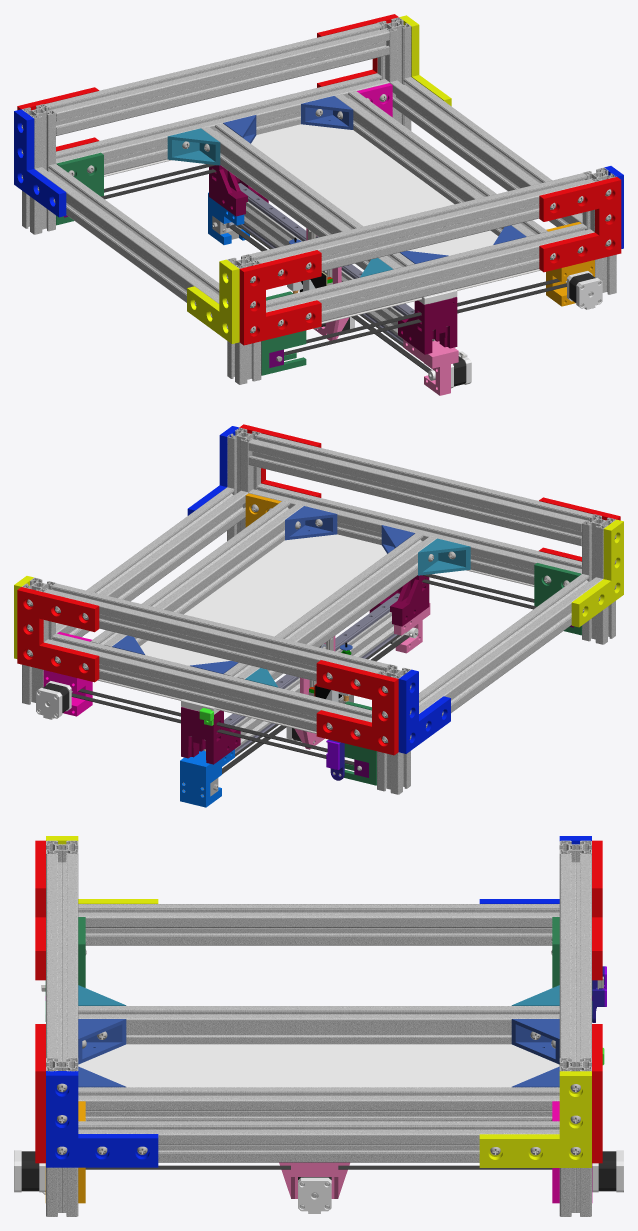
Rendered from smd-machine.glb.
3 renders of one model, top to bottom at view 1: azimuth 30°, elevation 25°; view 2: azimuth 150°, elevation 25°; view 3: azimuth 270°, elevation 25°, orthographic. The views are drawn at different scales.
Visible parts, largest first — view 1: Твердое тело1 (×34), Твердое тело2 (×5); view 2: Твердое тело1 (×33), Твердое тело2 (×5); view 3: Твердое тело1 (×27), Твердое тело2 (×5).
Part boxes in pixels (x1,y1,x2,y2): Твердое тело1 (×34): [14, 14, 621, 395]; Твердое тело2 (×5): [56, 152, 457, 375]; Твердое тело1 (×33): [17, 424, 623, 807]; Твердое тело2 (×5): [181, 563, 581, 785]; Твердое тело1 (×27): [35, 836, 602, 1216]; Твердое тело2 (×5): [21, 917, 616, 1191].
Bounding box in the file's own units: 0.7072 × 0.3319 × 0.76.
63 materials, 1 textured.
